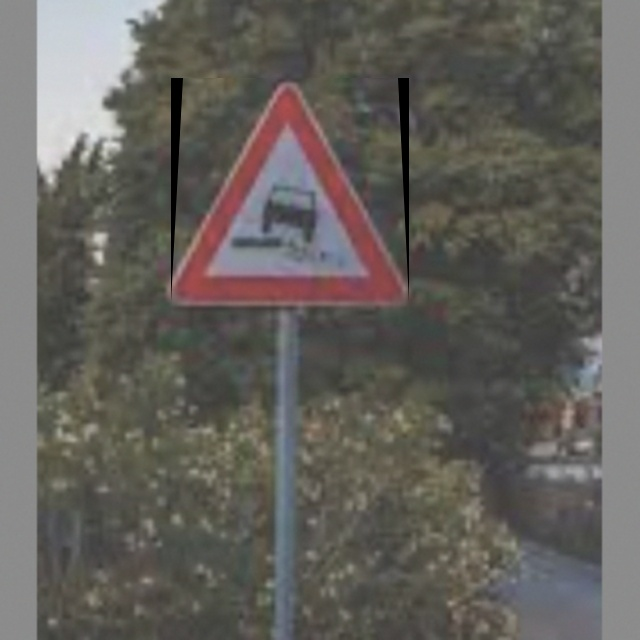Loose_Gravel: (171, 78, 409, 302)
